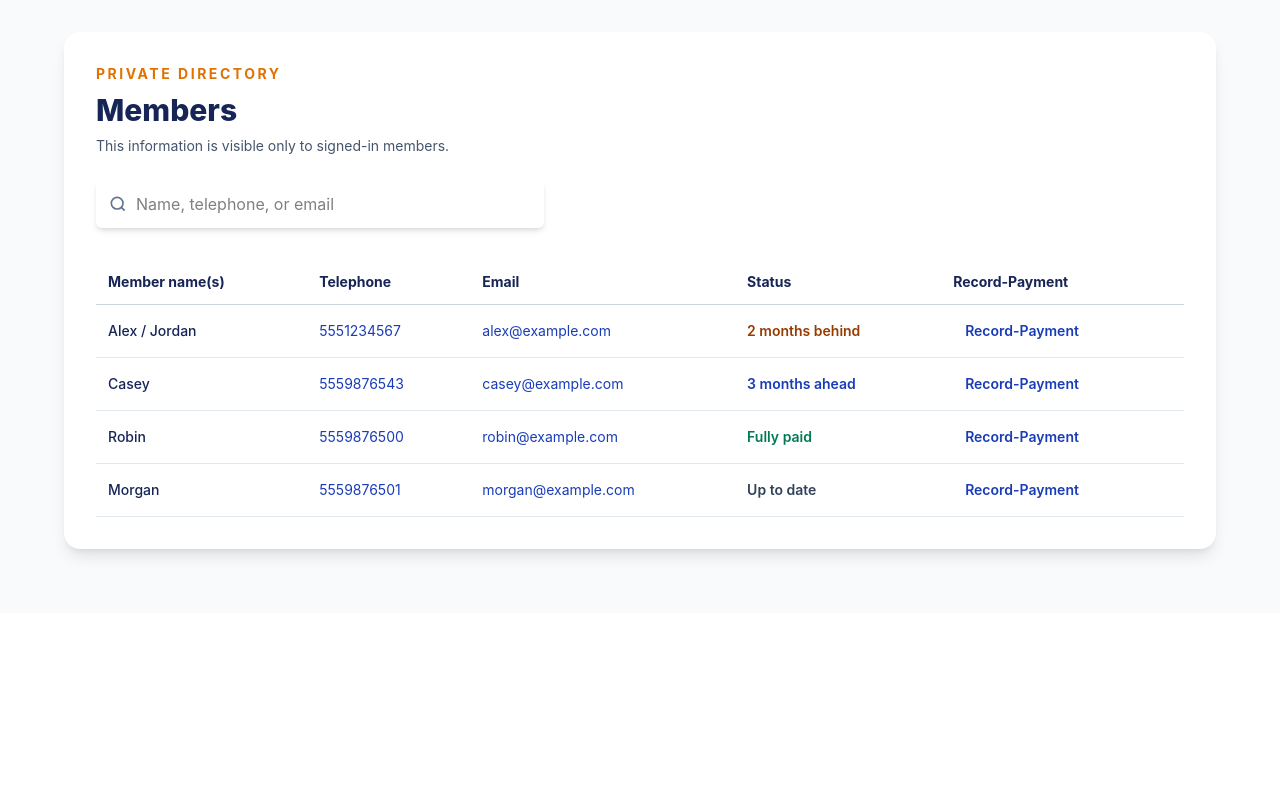
Test: Members payment navigation › opens the selected member payment history from the member list
Expected: the text "Alex / Jordan" is shown, [96,304,307,358]
Expected: the column heading "Status" is shown, [735,260,941,304]
Click the link with aria-label "Payment history for Alex Morgan" at (1022, 330), box [965,322,1079,339]
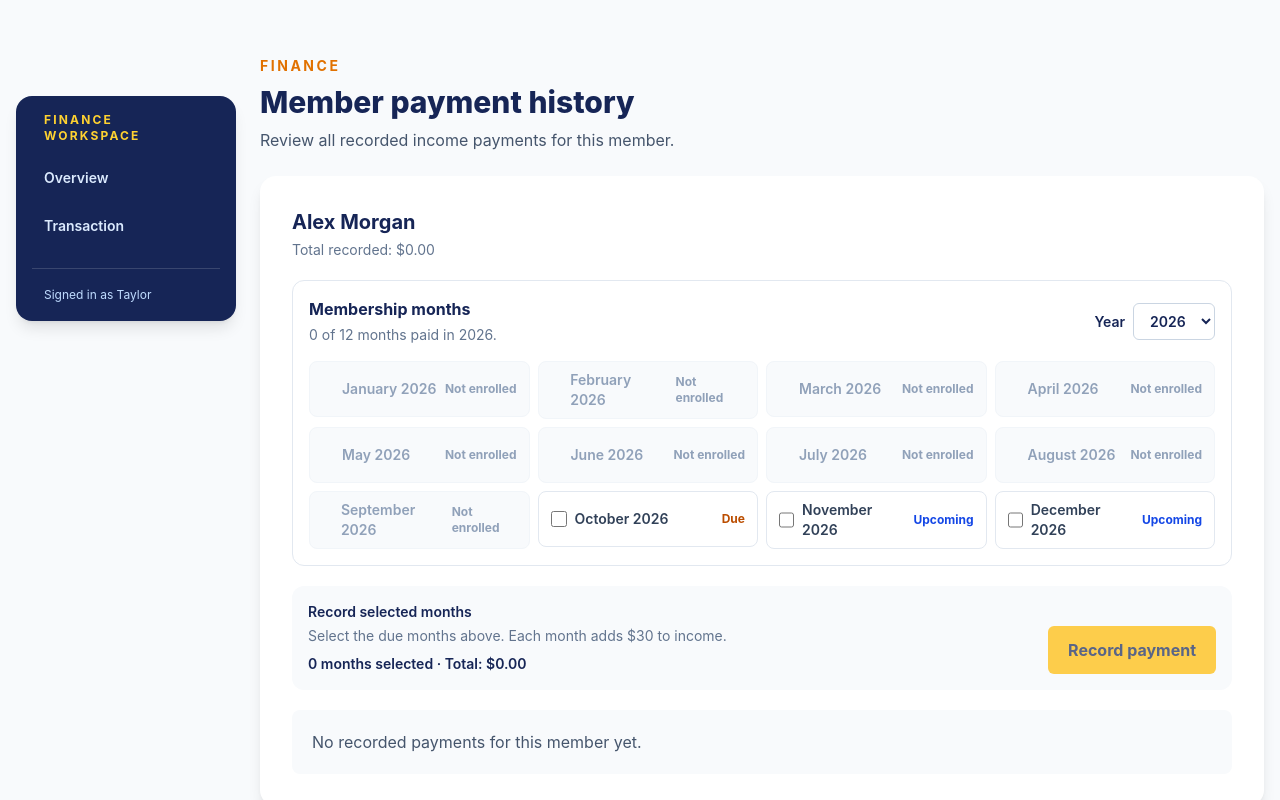
Result: the heading "Alex Morgan" is shown at [292,208,435,236]
Result: the text "No recorded payments for this member yet." is shown at [292,710,1232,774]
